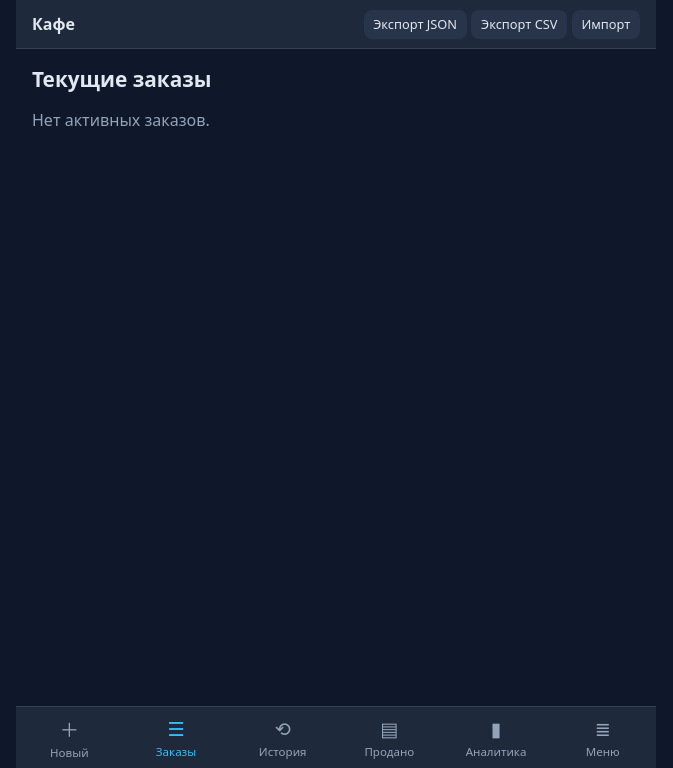
Scenario: App › creates an order end-to-end and shows it in the live list
Press the mouse on the tab with class "tab" showing "＋ Новый" at (69, 738), box [16,707,123,767]
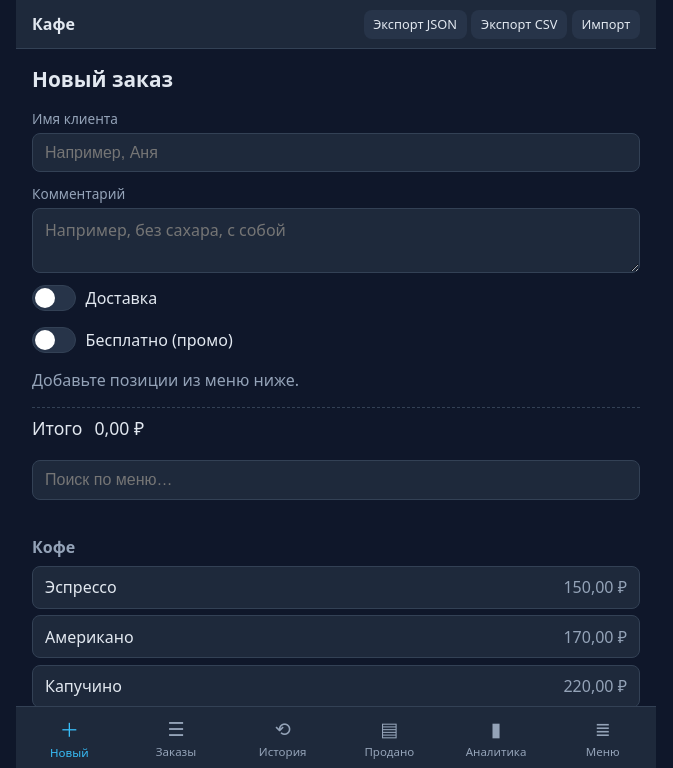
Type "Аня" into the field labelled "Имя клиента" at (336, 153), box [32,133,640,172]
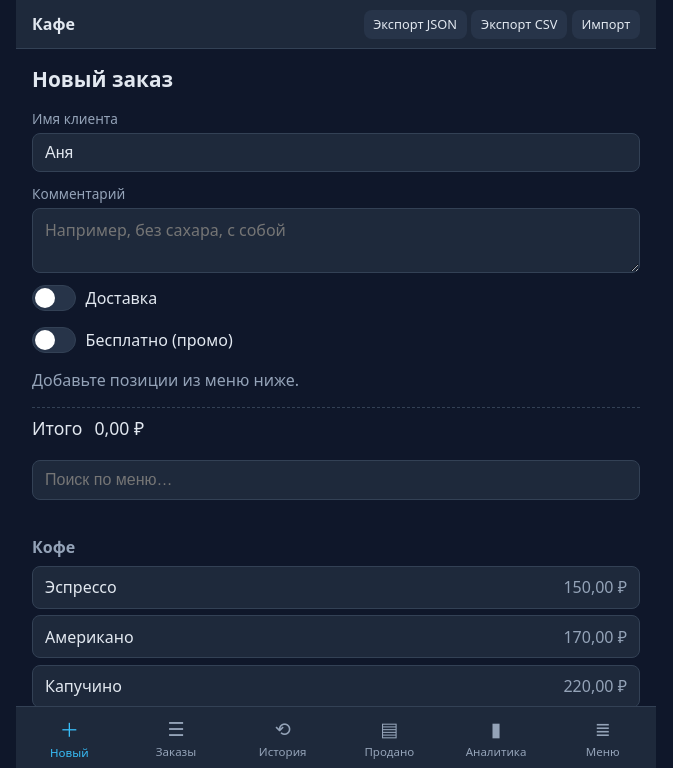
Click the button with class "menu-item" showing "Капучино 220,00 ₽" at (83, 686), box [32,665,640,708]
(page scrolled)
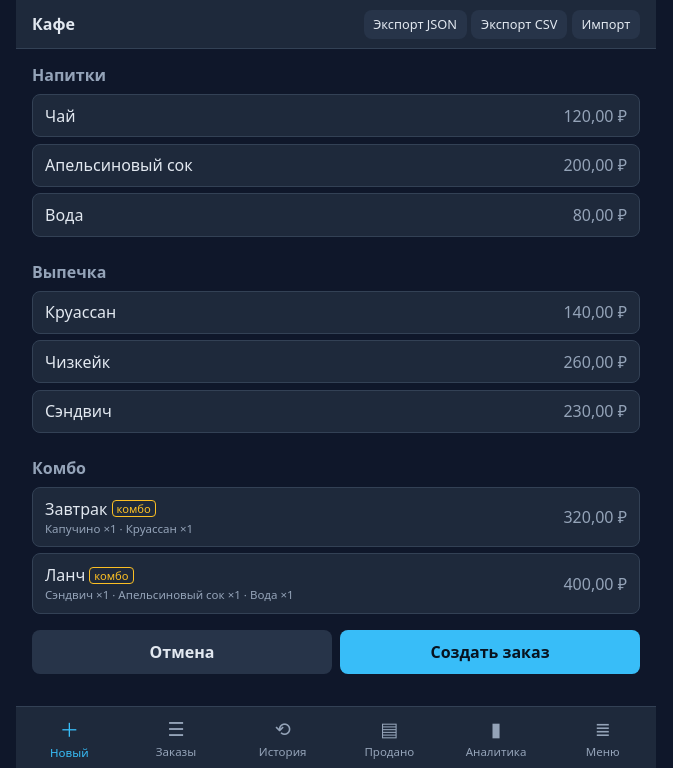
Click the button "Создать заказ" at (490, 652), box [340,630,640,674]
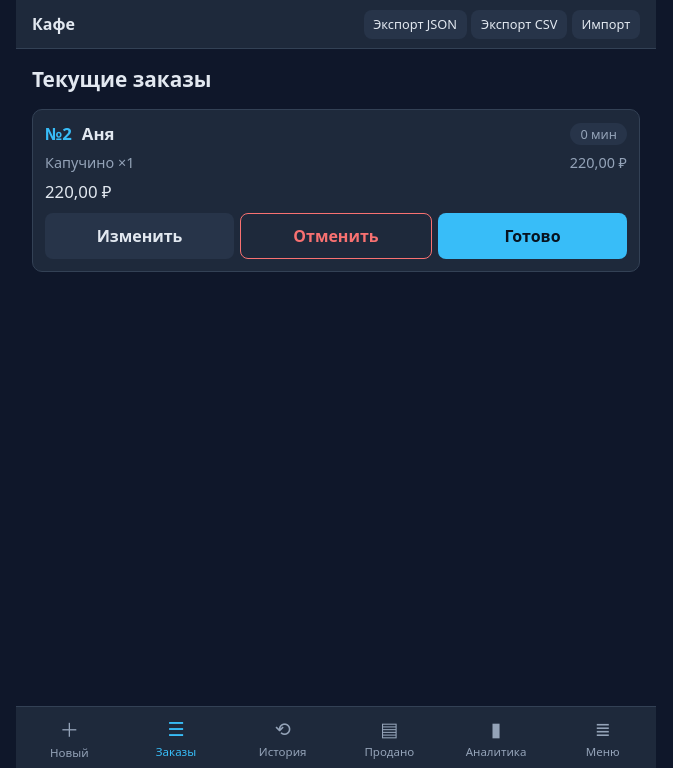
Expected: the text "Текущие заказы" is shown, [32,65,212,93]
Expected: the text "Аня" is shown, [78,122,114,145]
